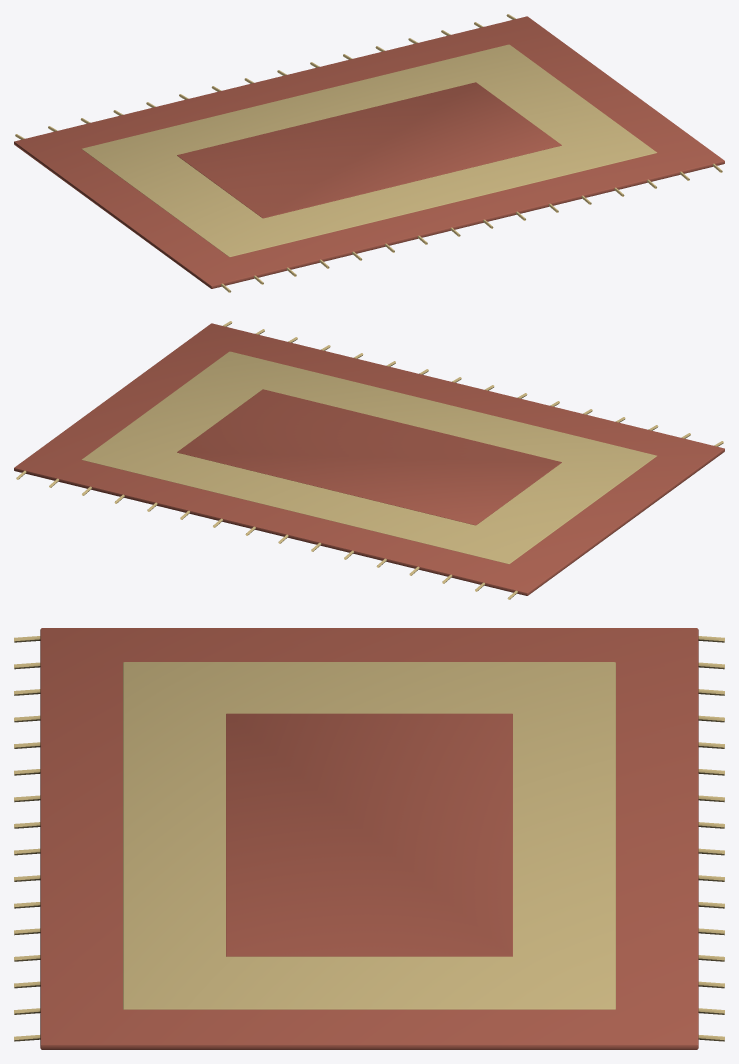
File: rug.glb
3 renders of one model, top to bottom at view 1: azimuth 30°, elevation 25°; view 2: azimuth 150°, elevation 25°; view 3: azimuth 270°, elevation 25°, orthographic. The views are drawn at different scales.
Visible parts, largest first — view 1: boat_rug, boat_rug2; view 2: boat_rug, boat_rug2; view 3: boat_rug, boat_rug2.
Boxes of the visible parts, x1,y1,x2,y2 form: boat_rug: [14, 16, 724, 288]; boat_rug2: [15, 14, 722, 292]; boat_rug: [14, 323, 724, 595]; boat_rug2: [16, 321, 723, 599]; boat_rug: [40, 628, 698, 1049]; boat_rug2: [14, 636, 724, 1041].
Bounding box in the file's own units: 2.4 × 0.0202 × 1.73.
